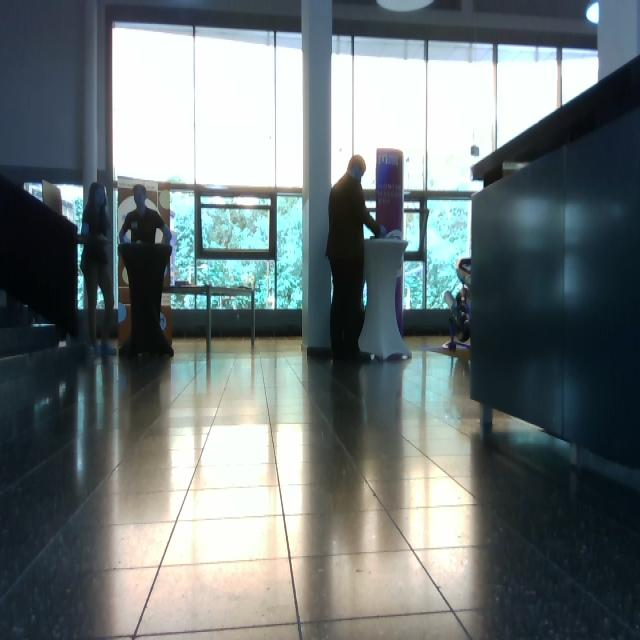light bulb: (377, 1, 435, 13), (586, 1, 600, 25), (470, 133, 480, 157), (471, 145, 480, 157)
person: (326, 154, 384, 364), (118, 184, 175, 358), (80, 182, 118, 357)
pillar: (300, 1, 333, 356)
table: (357, 235, 414, 367)
tiled floor: (2, 332, 639, 638)
window: (111, 20, 304, 313)
